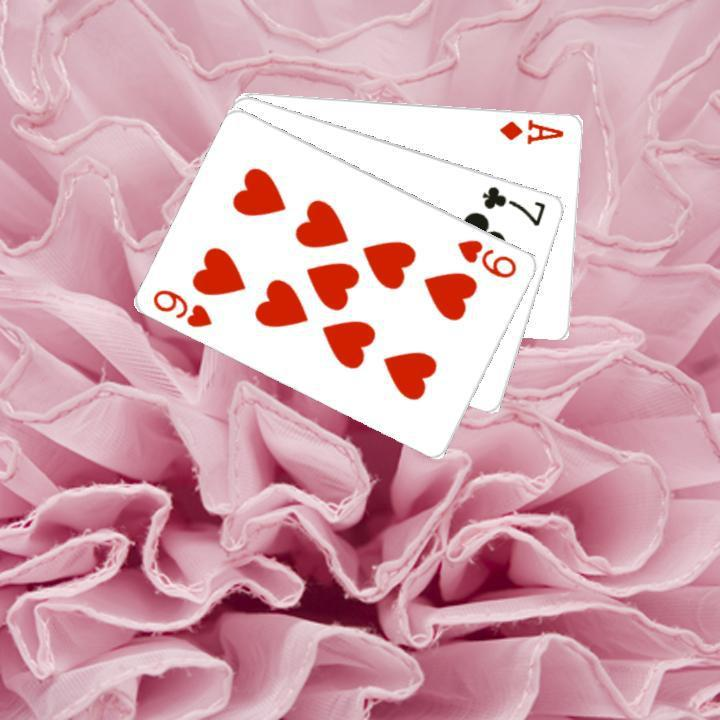7: (478, 181, 548, 228)
9: (453, 234, 520, 281), (148, 285, 215, 330)
A: (496, 115, 566, 146)
